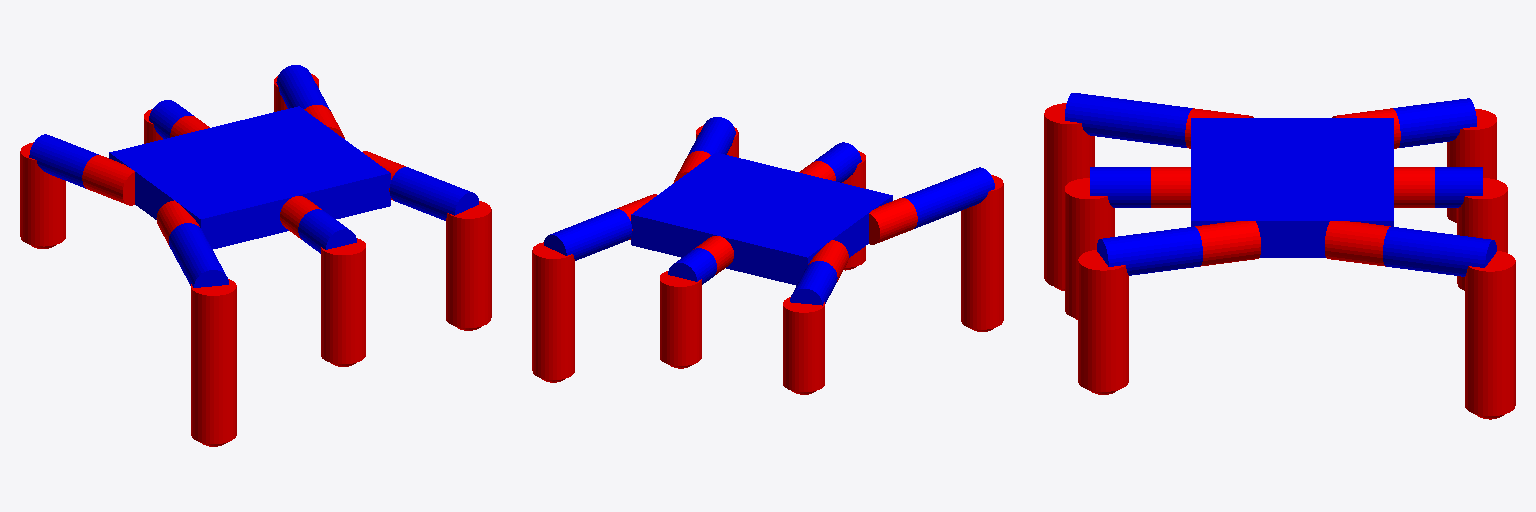
--- What the picture shows (computed from the rendered views, not written in the file) ---
3 views of the same robot in one strip: view 1: azimuth 30°, elevation 25°; view 2: azimuth 150°, elevation 25°; view 3: azimuth 270°, elevation 25° (orthographic).
Robot: pexod — 19 links, 18 joints (18 revolute); root link base_link; default pose: every joint at zero.
Visible links, largest first — view 1: base_link, leg_5_3, leg_3_3, leg_4_3, leg_0_3, leg_3_2, leg_5_2, leg_0_2, leg_0_1, leg_4_2, leg_2_2, leg_1_2 (+2 smaller); view 2: base_link, leg_5_3, leg_2_3, leg_0_3, leg_1_3, leg_5_2, leg_2_2, leg_5_1, leg_0_2, leg_3_2, leg_1_2, leg_4_2 (+3 smaller); view 3: base_link, leg_2_3, leg_3_3, leg_5_3, leg_5_2, leg_2_2, leg_3_2, leg_4_3, leg_0_2, leg_1_3, leg_0_3, leg_2_1 (+7 smaller).
Boxes of the visible links, <box> form: base_link: <box>109,106,390,249</box>; leg_5_3: <box>191,279,236,446</box>; leg_3_3: <box>446,201,491,330</box>; leg_4_3: <box>321,238,365,366</box>; leg_0_3: <box>20,142,65,248</box>; leg_3_2: <box>390,167,478,220</box>; leg_5_2: <box>169,223,228,287</box>; leg_0_2: <box>29,134,98,188</box>; leg_0_1: <box>82,155,134,205</box>; leg_4_2: <box>298,209,356,253</box>; leg_2_2: <box>276,65,330,110</box>; leg_1_2: <box>149,100,193,138</box>; base_link: <box>631,152,892,285</box>; leg_5_3: <box>961,175,1003,331</box>; leg_2_3: <box>532,242,574,382</box>; leg_0_3: <box>783,297,824,394</box>; leg_1_3: <box>660,271,701,368</box>; leg_5_2: <box>902,167,994,228</box>; leg_2_2: <box>544,209,631,260</box>; leg_5_1: <box>869,198,917,244</box>; leg_0_2: <box>790,261,837,305</box>; leg_3_2: <box>688,117,735,155</box>; leg_1_2: <box>668,248,716,284</box>; leg_4_2: <box>814,142,861,182</box>; base_link: <box>1191,118,1393,257</box>; leg_2_3: <box>1465,251,1515,419</box>; leg_3_3: <box>1078,250,1128,394</box>; leg_5_3: <box>1044,103,1094,290</box>; leg_5_2: <box>1065,93,1192,147</box>; leg_2_2: <box>1383,227,1496,276</box>; leg_3_2: <box>1097,226,1202,275</box>; leg_4_3: <box>1065,178,1114,319</box>; leg_0_2: <box>1393,98,1476,147</box>; leg_1_3: <box>1457,178,1507,290</box>; leg_0_3: <box>1447,109,1496,222</box>; leg_2_1: <box>1325,221,1390,266</box>.
Size in the robot's own frame: 0.3931 by 0.4639 by 0.2114 metres.
Geometry: primitives only (box / cylinder / sphere), no mesh files.

URDF robot description (pexod):
<?xml version="1.0" ?>
<!-- =================================================================================== -->
<!-- |    This document was autogenerated by xacro from pexod.xacro                    | -->
<!-- |    EDITING THIS FILE BY HAND IS NOT RECOMMENDED                                 | -->
<!-- =================================================================================== -->
<robot name="pexod" xmlns:xacro="http://www.ros.org/wiki/xacro">
  <!-- <xacro:include filename="$(find pexod_description)/urdf/pexod_control.xacro" /> -->
  <!-- MATERIALS -->
  <material name="Blue">
    <color rgba="0 0 1 1"/>
  </material>
  <material name="Red">
    <color rgba="1 0 0 1"/>
  </material>
  <material name="Green">
    <color rgba="0 1 0 1"/>
  </material>
  <material name="Yellow">
    <color rgba="1 1 0 1"/>
  </material>
  <material name="LightGrey">
    <color rgba="0.6 0.6 0.6 1.0"/>
  </material>
  <!-- END OF MATERIALS -->
  <!-- XACRO MACROS FOR VISUALS AND COLLISIONS -->
  <!-- END OF XACRO MACROS -->
  <!-- TORSO -->
  <link name="base_link">
    <visual>
      <origin rpy="0 0 0" xyz="0 0 0"/>
      <geometry>
        <box size="0.24 0.2 0.04"/>
      </geometry>
      <material name="Blue"/>
    </visual>
    <collision>
      <origin rpy="0 0 0" xyz="0 0 0"/>
      <geometry>
        <box size="0.24 0.2 0.04"/>
      </geometry>
    </collision>
    <inertial>
      <!-- CENTER OF MASS -->
      <origin rpy="0 0 0" xyz="0 0 0"/>
      <mass value="1.031"/>
      <!-- box inertia: 1/12*m(y^2+z^2), ... -->
      <inertia ixx="0.00357413333333" ixy="0" ixz="0" iyy="0.00508626666667" iyz="0" izz="0.00838546666667"/>
    </inertial>
  </link>
  <!-- XACRO MACRO FOR LEGS LINKS/JOINTS -->
  <!-- END OF LEG LINKS/JOINTS -->
  <joint name="body_leg_2" type="revolute">
    <parent link="base_link"/>
    <child link="leg_2_1"/>
    <limit effort="30.0" lower="-1.57079632679" upper="1.57079632679" velocity="7.0"/>
    <origin rpy="0 0 -0.3" xyz="0.11 0.04 0"/>
    <!-- <xacro:if value="${index == 5 or index == 4 or index == 3}">
                <axis xyz="0 0 1"/>
            </xacro:if>
            <xacro:if value="${index == 2 or index == 1 or index == 0}"> -->
    <axis xyz="0 0 1"/>
    <!-- </xacro:if> -->
    <dynamics damping="0.0"/>
  </joint>
  <link name="leg_2_1">
    <visual>
      <origin rpy="1.57079632679 0 0" xyz="0.01 0.03 0"/>
      <geometry>
        <cylinder length="0.06" radius="0.02"/>
      </geometry>
      <material name="Red"/>
    </visual>
    <collision>
      <origin rpy="1.57079632679 0 0" xyz="0.01 0.03 0"/>
      <geometry>
        <box size="0.02 0.02 0.06"/>
      </geometry>
    </collision>
    <inertial>
      <!-- CENTER OF MASS -->
      <origin rpy="1.57079632679 0 0" xyz="0.01 0.03 0"/>
      <mass value="0.02"/>
      <!-- box inertia: 1/12*m(y^2+z^2), ... -->
      <inertia ixx="6.66666666667e-06" ixy="0" ixz="0" iyy="6.66666666667e-06" iyz="0" izz="1.33333333333e-06"/>
    </inertial>
  </link>
  <joint name="leg_2_1_2" type="revolute">
    <parent link="leg_2_1"/>
    <child link="leg_2_2"/>
    <limit effort="30.0" lower="-0.78539816339" upper="0.78539816339" velocity="7.0"/>
    <origin rpy="0 0 0" xyz="0 0.06 0"/>
    <axis xyz="1 0 0"/>
    <dynamics damping="0.0"/>
  </joint>
  <link name="leg_2_2">
    <visual>
      <origin rpy="1.57079632679 0 0" xyz="0.01 0.052696446722 0"/>
      <geometry>
        <cylinder length="0.105392893444" radius="0.02"/>
      </geometry>
      <material name="Blue"/>
    </visual>
    <collision>
      <origin rpy="1.57079632679 0 0" xyz="0.01 0.052696446722 0"/>
      <geometry>
        <box size="0.02 0.02 0.105392893444"/>
      </geometry>
    </collision>
    <inertial>
      <!-- CENTER OF MASS -->
      <origin rpy="1.57079632679 0 0" xyz="0.01 0.052696446722 0"/>
      <mass value="0.184"/>
      <!-- box inertia: 1/12*m(y^2+z^2), ... -->
      <inertia ixx="0.000176450817157" ixy="0" ixz="0" iyy="0.000176450817157" iyz="0" izz="1.22666666667e-05"/>
    </inertial>
  </link>
  <joint name="leg_2_2_3" type="revolute">
    <parent link="leg_2_2"/>
    <child link="leg_2_3"/>
    <limit effort="30.0" lower="-0.78539816339" upper="0.78539816339" velocity="7.0"/>
    <origin rpy="-1.57079632679 0 0" xyz="0 0.105392893444 0"/>
    <axis xyz="-1 0 0"/>
    <dynamics damping="0.0"/>
  </joint>
  <link name="leg_2_3">
    <visual>
      <origin rpy="1.57079632679 0 0" xyz="0.0125 0.0786258330075 0"/>
      <geometry>
        <cylinder length="0.157251666015" radius="0.025"/>
      </geometry>
      <material name="Red"/>
    </visual>
    <visual>
      <origin rpy="1.57079632679 0 0" xyz="0.0125 0.144751666015 0"/>
      <geometry>
        <sphere radius="0.025"/>
      </geometry>
      <material name="Red"/>
    </visual>
    <collision>
      <origin rpy="1.57079632679 0 0" xyz="0.0125 0.0786258330075 0"/>
      <geometry>
        <box size="0.025 0.025 0.157251666015"/>
      </geometry>
    </collision>
    <collision>
      <origin rpy="1.57079632679 0 0" xyz="0.0125 0.144751666015 0"/>
      <geometry>
        <sphere radius="0.025"/>
      </geometry>
      <material name="Red"/>
    </collision>
    <inertial>
      <!-- CENTER OF MASS -->
      <origin rpy="1.57079632679 0 0" xyz="0.0125 0.0786258330075 0"/>
      <mass value="0.04"/>
      <!-- box inertia: 1/12*m(y^2+z^2), ... -->
      <inertia ixx="8.4510288215e-05" ixy="0" ixz="0" iyy="8.4510288215e-05" iyz="0" izz="4.16666666667e-06"/>
    </inertial>
  </link>
  <joint name="body_leg_3" type="revolute">
    <parent link="base_link"/>
    <child link="leg_3_1"/>
    <limit effort="30.0" lower="-1.57079632679" upper="1.57079632679" velocity="7.0"/>
    <origin rpy="0 0 0.3" xyz="0.11 -0.04 0"/>
    <!-- <xacro:if value="${index == 5 or index == 4 or index == 3}">
                <axis xyz="0 0 1"/>
            </xacro:if>
            <xacro:if value="${index == 2 or index == 1 or index == 0}"> -->
    <axis xyz="0 0 1"/>
    <!-- </xacro:if> -->
    <dynamics damping="0.0"/>
  </joint>
  <link name="leg_3_1">
    <visual>
      <origin rpy="1.57079632679 0 0" xyz="0.01 -0.03 0"/>
      <geometry>
        <cylinder length="0.06" radius="0.02"/>
      </geometry>
      <material name="Red"/>
    </visual>
    <collision>
      <origin rpy="1.57079632679 0 0" xyz="0.01 -0.03 0"/>
      <geometry>
        <box size="0.02 0.02 0.06"/>
      </geometry>
    </collision>
    <inertial>
      <!-- CENTER OF MASS -->
      <origin rpy="1.57079632679 0 0" xyz="0.01 -0.03 0"/>
      <mass value="0.02"/>
      <!-- box inertia: 1/12*m(y^2+z^2), ... -->
      <inertia ixx="6.66666666667e-06" ixy="0" ixz="0" iyy="6.66666666667e-06" iyz="0" izz="1.33333333333e-06"/>
    </inertial>
  </link>
  <joint name="leg_3_1_2" type="revolute">
    <parent link="leg_3_1"/>
    <child link="leg_3_2"/>
    <limit effort="30.0" lower="-0.78539816339" upper="0.78539816339" velocity="7.0"/>
    <origin rpy="0 0 0" xyz="0 -0.06 0"/>
    <axis xyz="-1 0 0"/>
    <dynamics damping="0.0"/>
  </joint>
  <link name="leg_3_2">
    <visual>
      <origin rpy="1.57079632679 0 0" xyz="0.01 -0.0485939230916 0"/>
      <geometry>
        <cylinder length="0.0971878461832" radius="0.02"/>
      </geometry>
      <material name="Blue"/>
    </visual>
    <collision>
      <origin rpy="1.57079632679 0 0" xyz="0.01 -0.0485939230916 0"/>
      <geometry>
        <box size="0.02 0.02 0.0971878461832"/>
      </geometry>
    </collision>
    <inertial>
      <!-- CENTER OF MASS -->
      <origin rpy="1.57079632679 0 0" xyz="0.01 -0.0485939230916 0"/>
      <mass value="0.184"/>
      <!-- box inertia: 1/12*m(y^2+z^2), ... -->
      <inertia ixx="0.000150963987501" ixy="0" ixz="0" iyy="0.000150963987501" iyz="0" izz="1.22666666667e-05"/>
    </inertial>
  </link>
  <joint name="leg_3_2_3" type="revolute">
    <parent link="leg_3_2"/>
    <child link="leg_3_3"/>
    <limit effort="30.0" lower="-0.78539816339" upper="0.78539816339" velocity="7.0"/>
    <origin rpy="1.57079632679 0 0" xyz="0 -0.0971878461832 0"/>
    <axis xyz="1 0 0"/>
    <dynamics damping="0.0"/>
  </joint>
  <link name="leg_3_3">
    <visual>
      <origin rpy="1.57079632679 0 0" xyz="0.0125 -0.0659430961475 0"/>
      <geometry>
        <cylinder length="0.131886192295" radius="0.025"/>
      </geometry>
      <material name="Red"/>
    </visual>
    <visual>
      <origin rpy="1.57079632679 0 0" xyz="0.0125 -0.119386192295 0"/>
      <geometry>
        <sphere radius="0.025"/>
      </geometry>
      <material name="Red"/>
    </visual>
    <collision>
      <origin rpy="1.57079632679 0 0" xyz="0.0125 -0.0659430961475 0"/>
      <geometry>
        <box size="0.025 0.025 0.131886192295"/>
      </geometry>
    </collision>
    <collision>
      <origin rpy="1.57079632679 0 0" xyz="0.0125 -0.119386192295 0"/>
      <geometry>
        <sphere radius="0.025"/>
      </geometry>
      <material name="Red"/>
    </collision>
    <inertial>
      <!-- CENTER OF MASS -->
      <origin rpy="1.57079632679 0 0" xyz="0.0125 -0.0659430961475 0"/>
      <mass value="0.04"/>
      <!-- box inertia: 1/12*m(y^2+z^2), ... -->
      <inertia ixx="6.00632257269e-05" ixy="0" ixz="0" iyy="6.00632257269e-05" iyz="0" izz="4.16666666667e-06"/>
    </inertial>
  </link>
  <joint name="body_leg_0" type="revolute">
    <parent link="base_link"/>
    <child link="leg_0_1"/>
    <limit effort="30.0" lower="-1.57079632679" upper="1.57079632679" velocity="7.0"/>
    <origin rpy="0 0 0.3" xyz="-0.13 0.04 0"/>
    <!-- <xacro:if value="${index == 5 or index == 4 or index == 3}">
                <axis xyz="0 0 1"/>
            </xacro:if>
            <xacro:if value="${index == 2 or index == 1 or index == 0}"> -->
    <axis xyz="0 0 1"/>
    <!-- </xacro:if> -->
    <dynamics damping="0.0"/>
  </joint>
  <link name="leg_0_1">
    <visual>
      <origin rpy="1.57079632679 0 0" xyz="0.01 0.03 0"/>
      <geometry>
        <cylinder length="0.06" radius="0.02"/>
      </geometry>
      <material name="Red"/>
    </visual>
    <collision>
      <origin rpy="1.57079632679 0 0" xyz="0.01 0.03 0"/>
      <geometry>
        <box size="0.02 0.02 0.06"/>
      </geometry>
    </collision>
    <inertial>
      <!-- CENTER OF MASS -->
      <origin rpy="1.57079632679 0 0" xyz="0.01 0.03 0"/>
      <mass value="0.02"/>
      <!-- box inertia: 1/12*m(y^2+z^2), ... -->
      <inertia ixx="6.66666666667e-06" ixy="0" ixz="0" iyy="6.66666666667e-06" iyz="0" izz="1.33333333333e-06"/>
    </inertial>
  </link>
  <joint name="leg_0_1_2" type="revolute">
    <parent link="leg_0_1"/>
    <child link="leg_0_2"/>
    <limit effort="30.0" lower="-0.78539816339" upper="0.78539816339" velocity="7.0"/>
    <origin rpy="0 0 0" xyz="0 0.06 0"/>
    <axis xyz="1 0 0"/>
    <dynamics damping="0.0"/>
  </joint>
  <link name="leg_0_2">
    <visual>
      <origin rpy="1.57079632679 0 0" xyz="0.01 0.0394516124303 0"/>
      <geometry>
        <cylinder length="0.0789032248606" radius="0.02"/>
      </geometry>
      <material name="Blue"/>
    </visual>
    <collision>
      <origin rpy="1.57079632679 0 0" xyz="0.01 0.0394516124303 0"/>
      <geometry>
        <box size="0.02 0.02 0.0789032248606"/>
      </geometry>
    </collision>
    <inertial>
      <!-- CENTER OF MASS -->
      <origin rpy="1.57079632679 0 0" xyz="0.01 0.0394516124303 0"/>
      <mass value="0.184"/>
      <!-- box inertia: 1/12*m(y^2+z^2), ... -->
      <inertia ixx="0.000101594356366" ixy="0" ixz="0" iyy="0.000101594356366" iyz="0" izz="1.22666666667e-05"/>
    </inertial>
  </link>
  <joint name="leg_0_2_3" type="revolute">
    <parent link="leg_0_2"/>
    <child link="leg_0_3"/>
    <limit effort="30.0" lower="-0.78539816339" upper="0.78539816339" velocity="7.0"/>
    <origin rpy="-1.57079632679 0 0" xyz="0 0.0789032248606 0"/>
    <axis xyz="-1 0 0"/>
    <dynamics damping="0.0"/>
  </joint>
  <link name="leg_0_3">
    <visual>
      <origin rpy="1.57079632679 0 0" xyz="0.0125 0.0517457439495 0"/>
      <geometry>
        <cylinder length="0.103491487899" radius="0.025"/>
      </geometry>
      <material name="Red"/>
    </visual>
    <visual>
      <origin rpy="1.57079632679 0 0" xyz="0.0125 0.090991487899 0"/>
      <geometry>
        <sphere radius="0.025"/>
      </geometry>
      <material name="Red"/>
    </visual>
    <collision>
      <origin rpy="1.57079632679 0 0" xyz="0.0125 0.0517457439495 0"/>
      <geometry>
        <box size="0.025 0.025 0.103491487899"/>
      </geometry>
    </collision>
    <collision>
      <origin rpy="1.57079632679 0 0" xyz="0.0125 0.090991487899 0"/>
      <geometry>
        <sphere radius="0.025"/>
      </geometry>
      <material name="Red"/>
    </collision>
    <inertial>
      <!-- CENTER OF MASS -->
      <origin rpy="1.57079632679 0 0" xyz="0.0125 0.0517457439495 0"/>
      <mass value="0.04"/>
      <!-- box inertia: 1/12*m(y^2+z^2), ... -->
      <inertia ixx="3.77849602252e-05" ixy="0" ixz="0" iyy="3.77849602252e-05" iyz="0" izz="4.16666666667e-06"/>
    </inertial>
  </link>
  <joint name="body_leg_5" type="revolute">
    <parent link="base_link"/>
    <child link="leg_5_1"/>
    <limit effort="30.0" lower="-1.57079632679" upper="1.57079632679" velocity="7.0"/>
    <origin rpy="0 0 -0.3" xyz="-0.13 -0.04 0"/>
    <!-- <xacro:if value="${index == 5 or index == 4 or index == 3}">
                <axis xyz="0 0 1"/>
            </xacro:if>
            <xacro:if value="${index == 2 or index == 1 or index == 0}"> -->
    <axis xyz="0 0 1"/>
    <!-- </xacro:if> -->
    <dynamics damping="0.0"/>
  </joint>
  <link name="leg_5_1">
    <visual>
      <origin rpy="1.57079632679 0 0" xyz="0.01 -0.03 0"/>
      <geometry>
        <cylinder length="0.06" radius="0.02"/>
      </geometry>
      <material name="Red"/>
    </visual>
    <collision>
      <origin rpy="1.57079632679 0 0" xyz="0.01 -0.03 0"/>
      <geometry>
        <box size="0.02 0.02 0.06"/>
      </geometry>
    </collision>
    <inertial>
      <!-- CENTER OF MASS -->
      <origin rpy="1.57079632679 0 0" xyz="0.01 -0.03 0"/>
      <mass value="0.02"/>
      <!-- box inertia: 1/12*m(y^2+z^2), ... -->
      <inertia ixx="6.66666666667e-06" ixy="0" ixz="0" iyy="6.66666666667e-06" iyz="0" izz="1.33333333333e-06"/>
    </inertial>
  </link>
  <joint name="leg_5_1_2" type="revolute">
    <parent link="leg_5_1"/>
    <child link="leg_5_2"/>
    <limit effort="30.0" lower="-0.78539816339" upper="0.78539816339" velocity="7.0"/>
    <origin rpy="0 0 0" xyz="0 -0.06 0"/>
    <axis xyz="-1 0 0"/>
    <dynamics damping="0.0"/>
  </joint>
  <link name="leg_5_2">
    <visual>
      <origin rpy="1.57079632679 0 0" xyz="0.01 -0.0621656635125 0"/>
      <geometry>
        <cylinder length="0.124331327025" radius="0.02"/>
      </geometry>
      <material name="Blue"/>
    </visual>
    <collision>
      <origin rpy="1.57079632679 0 0" xyz="0.01 -0.0621656635125 0"/>
      <geometry>
        <box size="0.02 0.02 0.124331327025"/>
      </geometry>
    </collision>
    <inertial>
      <!-- CENTER OF MASS -->
      <origin rpy="1.57079632679 0 0" xyz="0.01 -0.0621656635125 0"/>
      <mass value="0.184"/>
      <!-- box inertia: 1/12*m(y^2+z^2), ... -->
      <inertia ixx="0.000243160276157" ixy="0" ixz="0" iyy="0.000243160276157" iyz="0" izz="1.22666666667e-05"/>
    </inertial>
  </link>
  <joint name="leg_5_2_3" type="revolute">
    <parent link="leg_5_2"/>
    <child link="leg_5_3"/>
    <limit effort="30.0" lower="-0.78539816339" upper="0.78539816339" velocity="7.0"/>
    <origin rpy="1.57079632679 0 0" xyz="0 -0.124331327025 0"/>
    <axis xyz="1 0 0"/>
    <dynamics damping="0.0"/>
  </joint>
  <link name="leg_5_3">
    <visual>
      <origin rpy="1.57079632679 0 0" xyz="0.0125 -0.0894448089545 0"/>
      <geometry>
        <cylinder length="0.178889617909" radius="0.025"/>
      </geometry>
      <material name="Red"/>
    </visual>
    <visual>
      <origin rpy="1.57079632679 0 0" xyz="0.0125 -0.166389617909 0"/>
      <geometry>
        <sphere radius="0.025"/>
      </geometry>
      <material name="Red"/>
    </visual>
    <collision>
      <origin rpy="1.57079632679 0 0" xyz="0.0125 -0.0894448089545 0"/>
      <geometry>
        <box size="0.025 0.025 0.178889617909"/>
      </geometry>
    </collision>
    <collision>
      <origin rpy="1.57079632679 0 0" xyz="0.0125 -0.166389617909 0"/>
      <geometry>
        <sphere radius="0.025"/>
      </geometry>
      <material name="Red"/>
    </collision>
    <inertial>
      <!-- CENTER OF MASS -->
      <origin rpy="1.57079632679 0 0" xyz="0.0125 -0.0894448089545 0"/>
      <mass value="0.04"/>
      <!-- box inertia: 1/12*m(y^2+z^2), ... -->
      <inertia ixx="0.000108754984652" ixy="0" ixz="0" iyy="0.000108754984652" iyz="0" izz="4.16666666667e-06"/>
    </inertial>
  </link>
  <joint name="body_leg_1" type="revolute">
    <parent link="base_link"/>
    <child link="leg_1_1"/>
    <limit effort="30.0" lower="-1.57079632679" upper="1.57079632679" velocity="7.0"/>
    <origin rpy="0 0 0" xyz="-0.01 0.08 0"/>
    <!-- <xacro:if value="${index == 5 or index == 4 or index == 3}">
                <axis xyz="0 0 1"/>
            </xacro:if>
            <xacro:if value="${index == 2 or index == 1 or index == 0}"> -->
    <axis xyz="0 0 1"/>
    <!-- </xacro:if> -->
    <dynamics damping="0.0"/>
  </joint>
  <link name="leg_1_1">
    <visual>
      <origin rpy="1.57079632679 0 0" xyz="0.01 0.03 0"/>
      <geometry>
        <cylinder length="0.06" radius="0.02"/>
      </geometry>
      <material name="Red"/>
    </visual>
    <collision>
      <origin rpy="1.57079632679 0 0" xyz="0.01 0.03 0"/>
      <geometry>
        <box size="0.02 0.02 0.06"/>
      </geometry>
    </collision>
    <inertial>
      <!-- CENTER OF MASS -->
      <origin rpy="1.57079632679 0 0" xyz="0.01 0.03 0"/>
      <mass value="0.02"/>
      <!-- box inertia: 1/12*m(y^2+z^2), ... -->
      <inertia ixx="6.66666666667e-06" ixy="0" ixz="0" iyy="6.66666666667e-06" iyz="0" izz="1.33333333333e-06"/>
    </inertial>
  </link>
  <joint name="leg_1_1_2" type="revolute">
    <parent link="leg_1_1"/>
    <child link="leg_1_2"/>
    <limit effort="30.0" lower="-0.78539816339" upper="0.78539816339" velocity="7.0"/>
    <origin rpy="0 0 0" xyz="0 0.06 0"/>
    <axis xyz="1 0 0"/>
    <dynamics damping="0.0"/>
  </joint>
  <link name="leg_1_2">
    <visual>
      <origin rpy="1.57079632679 0 0" xyz="0.01 0.0234109252407 0"/>
      <geometry>
        <cylinder length="0.0468218504814" radius="0.02"/>
      </geometry>
      <material name="Blue"/>
    </visual>
    <collision>
      <origin rpy="1.57079632679 0 0" xyz="0.01 0.0234109252407 0"/>
      <geometry>
        <box size="0.02 0.02 0.0468218504814"/>
      </geometry>
    </collision>
    <inertial>
      <!-- CENTER OF MASS -->
      <origin rpy="1.57079632679 0 0" xyz="0.01 0.0234109252407 0"/>
      <mass value="0.184"/>
      <!-- box inertia: 1/12*m(y^2+z^2), ... -->
      <inertia ixx="3.9748380465e-05" ixy="0" ixz="0" iyy="3.9748380465e-05" iyz="0" izz="1.22666666667e-05"/>
    </inertial>
  </link>
  <joint name="leg_1_2_3" type="revolute">
    <parent link="leg_1_2"/>
    <child link="leg_1_3"/>
    <limit effort="30.0" lower="-0.78539816339" upper="0.78539816339" velocity="7.0"/>
    <origin rpy="-1.57079632679 0 0" xyz="0 0.0468218504814 0"/>
    <axis xyz="-1 0 0"/>
    <dynamics damping="0.0"/>
  </joint>
  <link name="leg_1_3">
    <visual>
      <origin rpy="1.57079632679 0 0" xyz="0.0125 0.051402557244 0"/>
      <geometry>
        <cylinder length="0.102805114488" radius="0.025"/>
      </geometry>
      <material name="Red"/>
    </visual>
    <visual>
      <origin rpy="1.57079632679 0 0" xyz="0.0125 0.090305114488 0"/>
      <geometry>
        <sphere radius="0.025"/>
      </geometry>
      <material name="Red"/>
    </visual>
    <collision>
      <origin rpy="1.57079632679 0 0" xyz="0.0125 0.051402557244 0"/>
      <geometry>
        <box size="0.025 0.025 0.102805114488"/>
      </geometry>
    </collision>
    <collision>
      <origin rpy="1.57079632679 0 0" xyz="0.0125 0.090305114488 0"/>
      <geometry>
        <sphere radius="0.025"/>
      </geometry>
      <material name="Red"/>
    </collision>
    <inertial>
      <!-- CENTER OF MASS -->
      <origin rpy="1.57079632679 0 0" xyz="0.0125 0.051402557244 0"/>
      <mass value="0.04"/>
      <!-- box inertia: 1/12*m(y^2+z^2), ... -->
      <inertia ixx="3.7312971883e-05" ixy="0" ixz="0" iyy="3.7312971883e-05" iyz="0" izz="4.16666666667e-06"/>
    </inertial>
  </link>
  <joint name="body_leg_4" type="revolute">
    <parent link="base_link"/>
    <child link="leg_4_1"/>
    <limit effort="30.0" lower="-1.57079632679" upper="1.57079632679" velocity="7.0"/>
    <origin rpy="0 0 0" xyz="-0.01 -0.08 0"/>
    <!-- <xacro:if value="${index == 5 or index == 4 or index == 3}">
                <axis xyz="0 0 1"/>
            </xacro:if>
            <xacro:if value="${index == 2 or index == 1 or index == 0}"> -->
    <axis xyz="0 0 1"/>
    <!-- </xacro:if> -->
    <dynamics damping="0.0"/>
  </joint>
  <link name="leg_4_1">
    <visual>
      <origin rpy="1.57079632679 0 0" xyz="0.01 -0.03 0"/>
      <geometry>
        <cylinder length="0.06" radius="0.02"/>
      </geometry>
      <material name="Red"/>
    </visual>
    <collision>
      <origin rpy="1.57079632679 0 0" xyz="0.01 -0.03 0"/>
      <geometry>
        <box size="0.02 0.02 0.06"/>
      </geometry>
    </collision>
    <inertial>
      <!-- CENTER OF MASS -->
      <origin rpy="1.57079632679 0 0" xyz="0.01 -0.03 0"/>
      <mass value="0.02"/>
      <!-- box inertia: 1/12*m(y^2+z^2), ... -->
      <inertia ixx="6.66666666667e-06" ixy="0" ixz="0" iyy="6.66666666667e-06" iyz="0" izz="1.33333333333e-06"/>
    </inertial>
  </link>
  <joint name="leg_4_1_2" type="revolute">
    <parent link="leg_4_1"/>
    <child link="leg_4_2"/>
    <limit effort="30.0" lower="-0.78539816339" upper="0.78539816339" velocity="7.0"/>
    <origin rpy="0 0 0" xyz="0 -0.06 0"/>
    <axis xyz="-1 0 0"/>
    <dynamics damping="0.0"/>
  </joint>
  <link name="leg_4_2">
    <visual>
      <origin rpy="1.57079632679 0 0" xyz="0.01 -0.0299724035995 0"/>
      <geometry>
        <cylinder length="0.059944807199" radius="0.02"/>
      </geometry>
      <material name="Blue"/>
    </visual>
    <collision>
      <origin rpy="1.57079632679 0 0" xyz="0.01 -0.0299724035995 0"/>
      <geometry>
        <box size="0.02 0.02 0.059944807199"/>
      </geometry>
    </collision>
    <inertial>
      <!-- CENTER OF MASS -->
      <origin rpy="1.57079632679 0 0" xyz="0.01 -0.0299724035995 0"/>
      <mass value="0.184"/>
      <!-- box inertia: 1/12*m(y^2+z^2), ... -->
      <inertia ixx="6.12318252886e-05" ixy="0" ixz="0" iyy="6.12318252886e-05" iyz="0" izz="1.22666666667e-05"/>
    </inertial>
  </link>
  <joint name="leg_4_2_3" type="revolute">
    <parent link="leg_4_2"/>
    <child link="leg_4_3"/>
    <limit effort="30.0" lower="-0.78539816339" upper="0.78539816339" velocity="7.0"/>
    <origin rpy="1.57079632679 0 0" xyz="0 -0.059944807199 0"/>
    <axis xyz="1 0 0"/>
    <dynamics damping="0.0"/>
  </joint>
  <link name="leg_4_3">
    <visual>
      <origin rpy="1.57079632679 0 0" xyz="0.0125 -0.06569400271 0"/>
      <geometry>
        <cylinder length="0.13138800542" radius="0.025"/>
      </geometry>
      <material name="Red"/>
    </visual>
    <visual>
      <origin rpy="1.57079632679 0 0" xyz="0.0125 -0.11888800542 0"/>
      <geometry>
        <sphere radius="0.025"/>
      </geometry>
      <material name="Red"/>
    </visual>
    <collision>
      <origin rpy="1.57079632679 0 0" xyz="0.0125 -0.06569400271 0"/>
      <geometry>
        <box size="0.025 0.025 0.13138800542"/>
      </geometry>
    </collision>
    <collision>
      <origin rpy="1.57079632679 0 0" xyz="0.0125 -0.11888800542 0"/>
      <geometry>
        <sphere radius="0.025"/>
      </geometry>
      <material name="Red"/>
    </collision>
    <inertial>
      <!-- CENTER OF MASS -->
      <origin rpy="1.57079632679 0 0" xyz="0.0125 -0.06569400271 0"/>
      <mass value="0.04"/>
      <!-- box inertia: 1/12*m(y^2+z^2), ... -->
      <inertia ixx="5.96260265608e-05" ixy="0" ixz="0" iyy="5.96260265608e-05" iyz="0" izz="4.16666666667e-06"/>
    </inertial>
  </link>
  <!-- END OF LEG LINKS/JOINTS -->
</robot>
